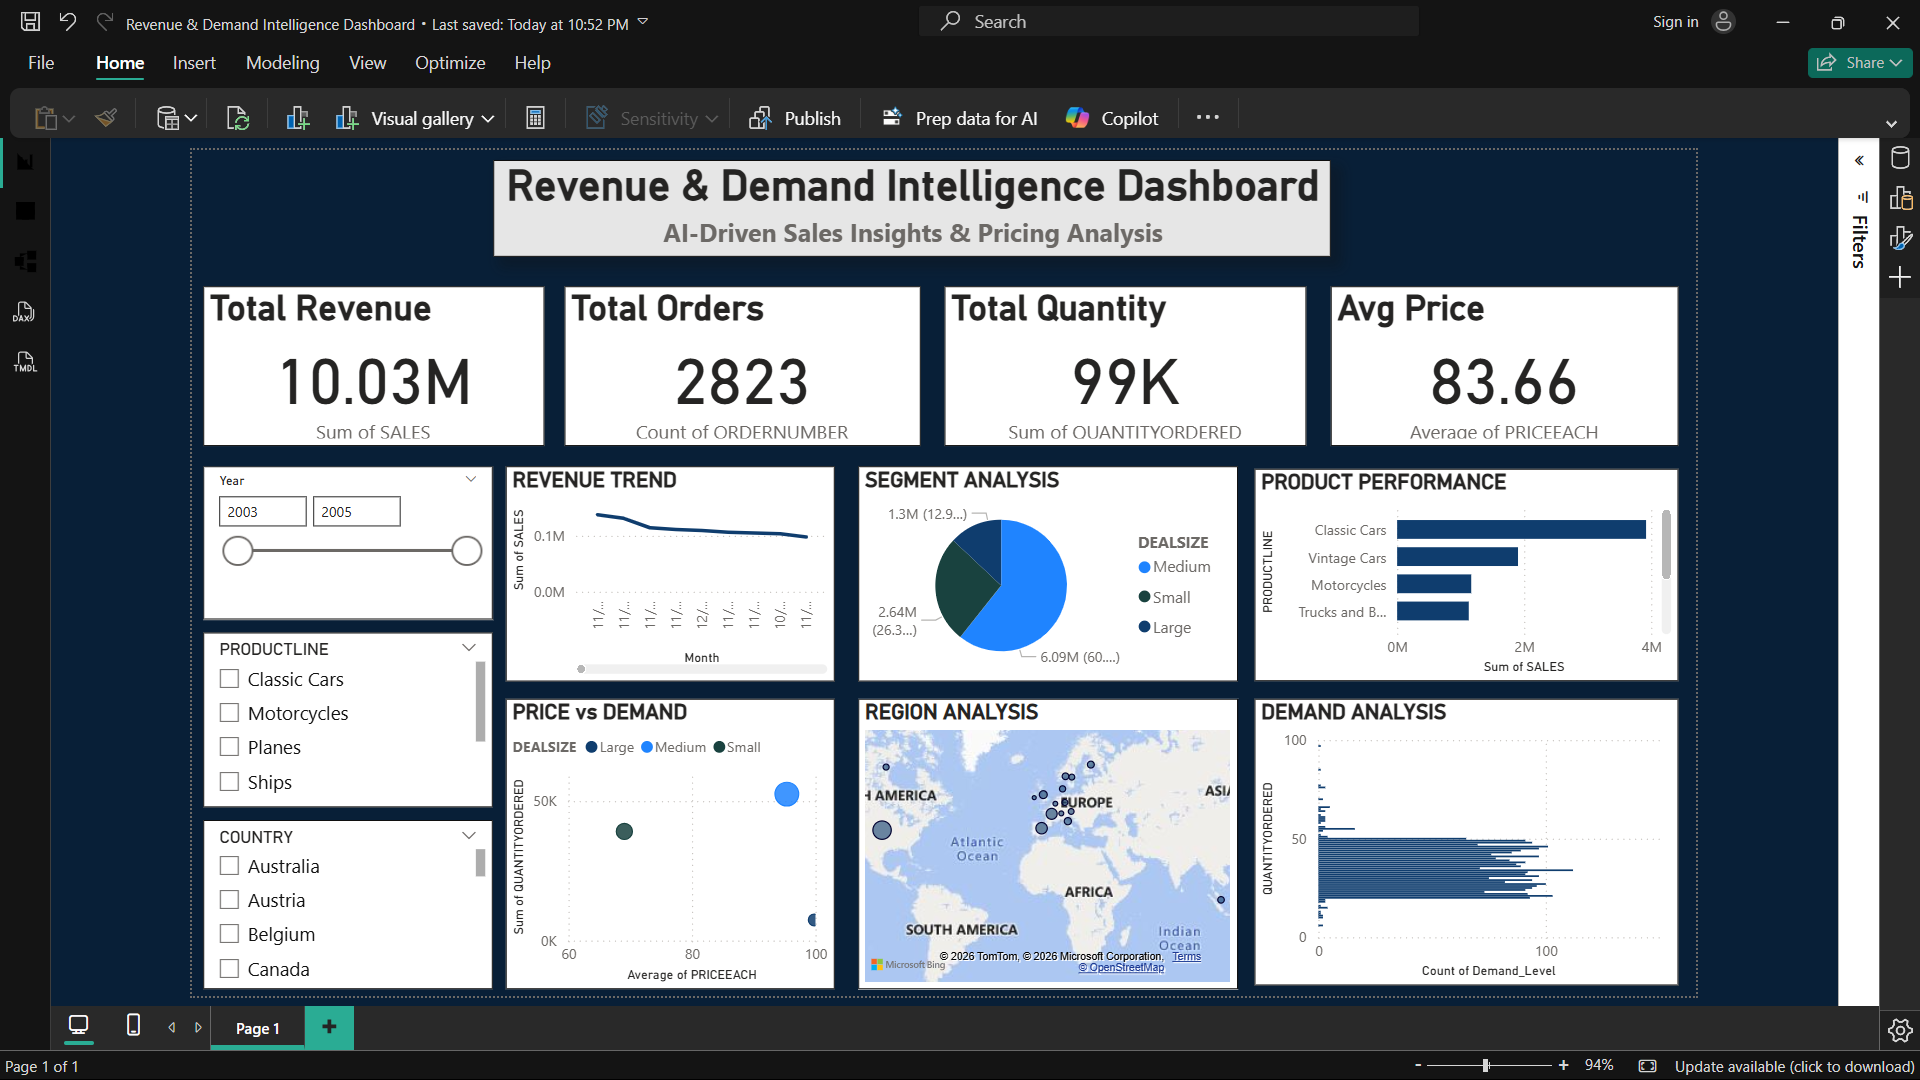

What the dashboard file says about the page in this screenshot:
{"tool":"powerbi","page":{"name":"Page 1","canvas":[1280,720],"ordinal":0},"visuals":[{"type":"card","title":"Total Revenue","fields":{"Values":["Sum(sales_data_sample.SALES)"]},"box":[10,116,290,136],"z":0},{"type":"card","title":"Total Quantity","fields":{"Values":["Sum(sales_data_sample.QUANTITYORDERED)"]},"box":[640,116,308,136],"z":1000},{"type":"card","title":"Avg Price","fields":{"Values":["Avg(sales_data_sample.PRICEEACH)"]},"box":[969,116,296,136],"z":2000},{"type":"card","title":"Total Orders","fields":{"Values":["CountNonNull(sales_data_sample.ORDERNUMBER)"]},"box":[317,116,303,136],"z":3000},{"type":"lineChart","title":"REVENUE TREND","fields":{"Category":["sales_data_sample.Month"],"Y":["Sum(sales_data_sample.SALES)"]},"box":[267,269,280,183],"z":4000},{"type":"clusteredBarChart","title":"DEMAND ANALYSIS","fields":{"Y":["CountNonNull(sales_data_sample.Demand_Level)"],"Category":["sales_data_sample.QUANTITYORDERED"]},"box":[904,467,361,244],"z":5000},{"type":"scatterChart","title":"PRICE vs DEMAND","fields":{"X":["Avg(sales_data_sample.PRICEEACH)"],"Y":["Sum(sales_data_sample.QUANTITYORDERED)"],"Size":["Sum(sales_data_sample.SALES)"],"Series":["sales_data_sample.DEALSIZE"]},"box":[267,467,280,247],"z":6000},{"type":"clusteredBarChart","title":"PRODUCT PERFORMANCE","fields":{"Y":["Sum(sales_data_sample.SALES)"],"Category":["sales_data_sample.PRODUCTLINE"]},"box":[904,271,361,181],"z":7000},{"type":"map","title":"REGION ANALYSIS","fields":{"Category":["sales_data_sample.COUNTRY"],"Size":["Sum(sales_data_sample.SALES)"]},"box":[567,467,323,247],"z":8000},{"type":"pieChart","title":"SEGMENT ANALYSIS","fields":{"Category":["sales_data_sample.DEALSIZE"],"Y":["Sum(sales_data_sample.SALES)"]},"box":[567,269,323,183],"z":9000},{"type":"slicer","fields":{"Values":["sales_data_sample.Year"]},"box":[10,269,246,130],"z":10000},{"type":"slicer","fields":{"Values":["sales_data_sample.COUNTRY"]},"box":[10,570,246,144],"z":11000},{"type":"slicer","fields":{"Values":["sales_data_sample.PRODUCTLINE"]},"box":[10,411,246,149],"z":12000},{"type":"textbox","title":"Revenue & Demand Intelligence Dashboard","box":[256,8,713,82],"z":13000}]}

Visuals, with their boxes on the page's 1280x720 design canvas (x1, y1, x2, y2). These are canvas units, not pixel positions in the 1920x1080 screenshot, which may show the page scaled, cropped or inside an application window:
"Total Revenue" card: 10/116/300/252
"Total Quantity" card: 640/116/948/252
"Avg Price" card: 969/116/1265/252
"Total Orders" card: 317/116/620/252
"REVENUE TREND" lineChart: 267/269/547/452
"DEMAND ANALYSIS" clusteredBarChart: 904/467/1265/711
"PRICE vs DEMAND" scatterChart: 267/467/547/714
"PRODUCT PERFORMANCE" clusteredBarChart: 904/271/1265/452
"REGION ANALYSIS" map: 567/467/890/714
"SEGMENT ANALYSIS" pieChart: 567/269/890/452
slicer - sales_data_sample.Year: 10/269/256/399
slicer - sales_data_sample.COUNTRY: 10/570/256/714
slicer - sales_data_sample.PRODUCTLINE: 10/411/256/560
"Revenue & Demand Intelligence Dashboard" textbox: 256/8/969/90
